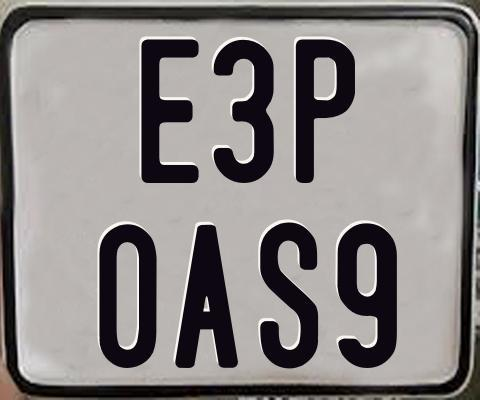0: (98, 223, 161, 369)
3: (214, 40, 276, 189)
9: (337, 223, 399, 374)
A: (174, 223, 239, 371)
E: (138, 39, 198, 183)
P: (296, 37, 358, 182)
S: (258, 219, 317, 368)
